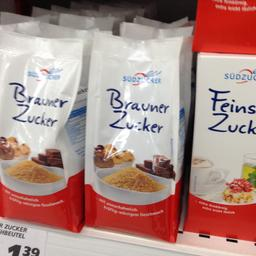sugar: (84, 31, 186, 242), (0, 26, 85, 233), (184, 52, 255, 242)
